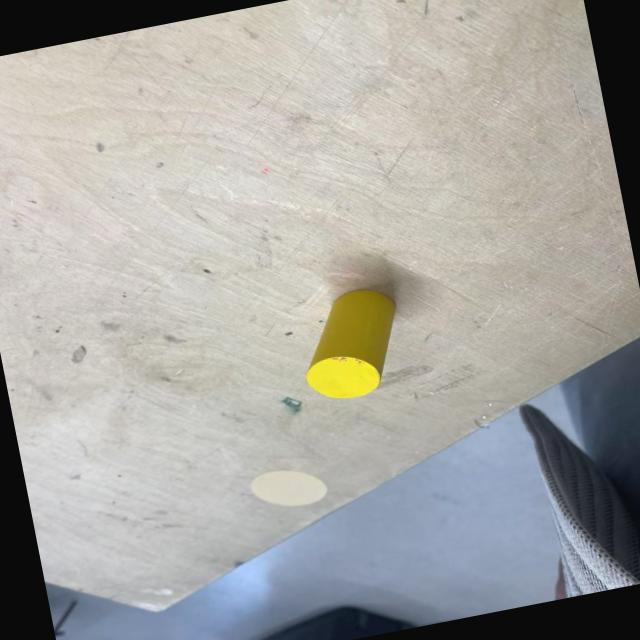yellow_cylinder: (290, 283, 414, 407)
